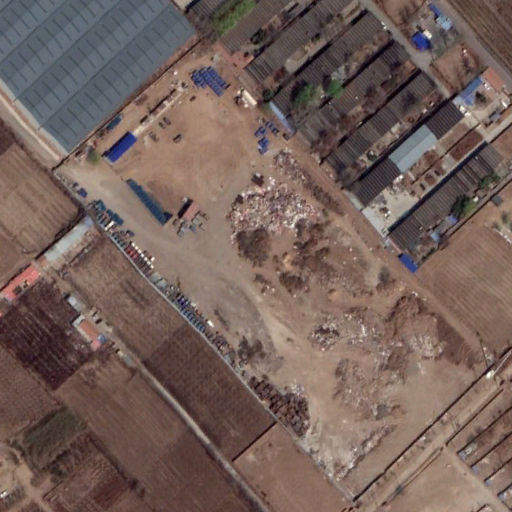msw: (228, 171, 323, 238)
